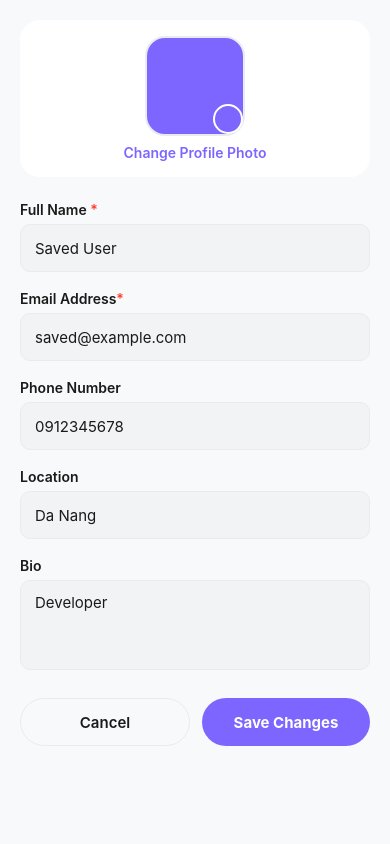
UI interactions › invalid submit displays validation errors without saving or navigating
Clear the field with placeholder "Enter your name" below "Full Name": (195, 248) [20,224,370,272]
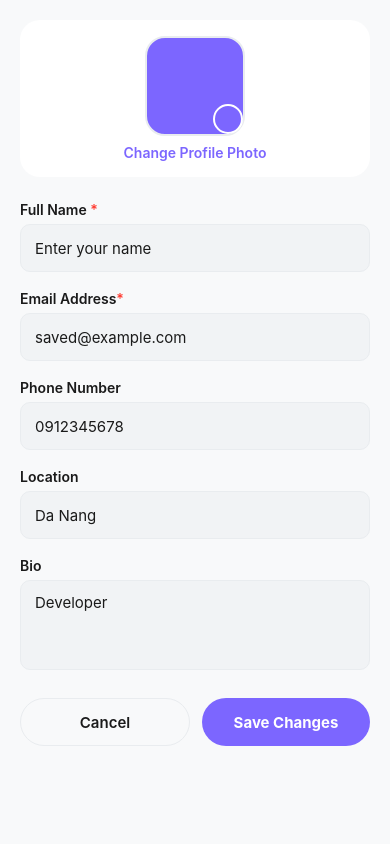
Replace the text in the field with placeholder "Enter your email" below "Email Address" with "bad-email": (195, 337) [20,313,370,361]
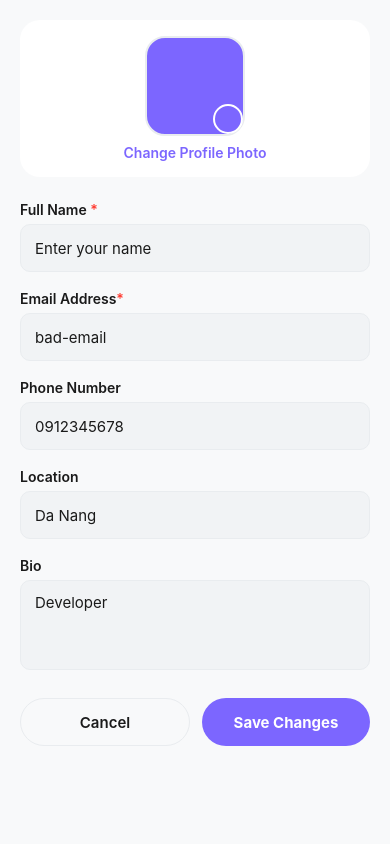
Click the text "Save Changes": click(286, 722) [234,712,338,732]
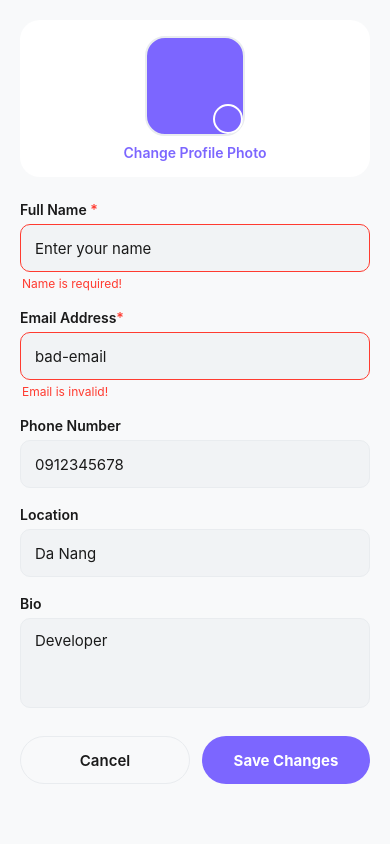
Now the text "Name is required!" is shown, box [22,276,122,291]
Now the text "Email is invalid!" is shown, box [22,384,108,399]
